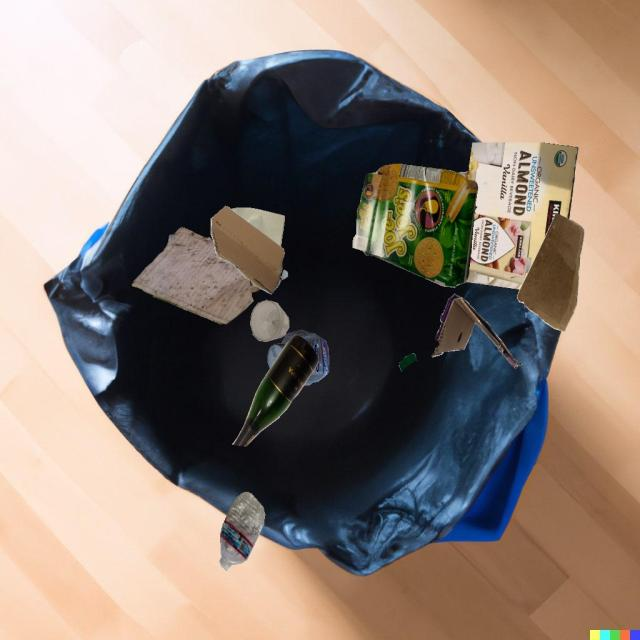cardboard: (466, 142, 578, 290), (352, 164, 478, 288), (517, 213, 584, 332), (431, 293, 523, 368), (211, 206, 288, 294)
glass: (232, 334, 319, 447), (250, 300, 289, 342), (457, 171, 468, 179)
paper: (130, 227, 261, 325), (231, 207, 285, 247)
plastic: (219, 492, 265, 571), (267, 330, 329, 386), (399, 353, 417, 372)
